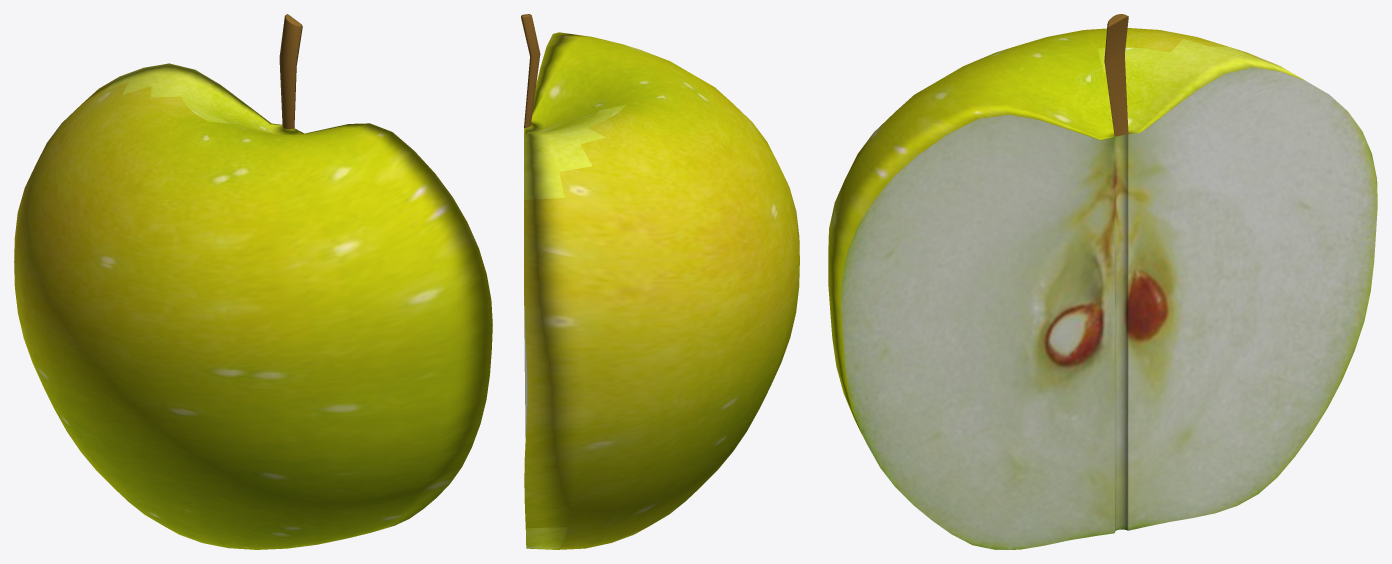
The model's file is greenapple_slice.obj.
The picture shows the model from 3 angles, left to right: view 1: azimuth 30°, elevation 25°; view 2: azimuth 150°, elevation 25°; view 3: azimuth 270°, elevation 25°; orthographic projection. The views are drawn at different scales.
Visible parts, largest first — view 1: polySurface3_Untitled.076; view 2: polySurface3_Untitled.076; view 3: polySurface3_Untitled.076.
Part boxes in pixels (<box>): polySurface3_Untitled.076: <box>14,14,492,549</box>; polySurface3_Untitled.076: <box>521,14,799,549</box>; polySurface3_Untitled.076: <box>828,14,1377,549</box>.
Size of the model in its own units: 0.0881 by 0.1306 by 0.122.
1 material, 1 textured.
